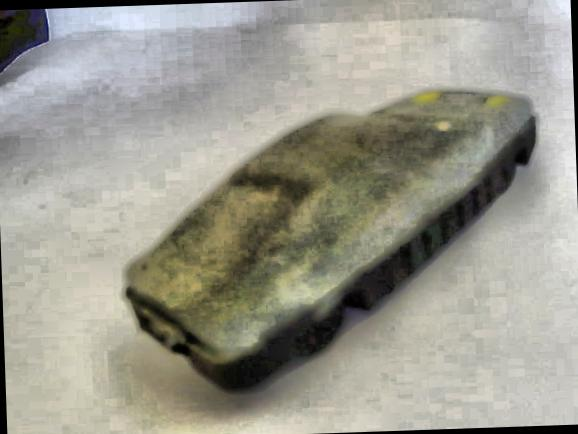normal_car: (56, 0, 557, 405)
